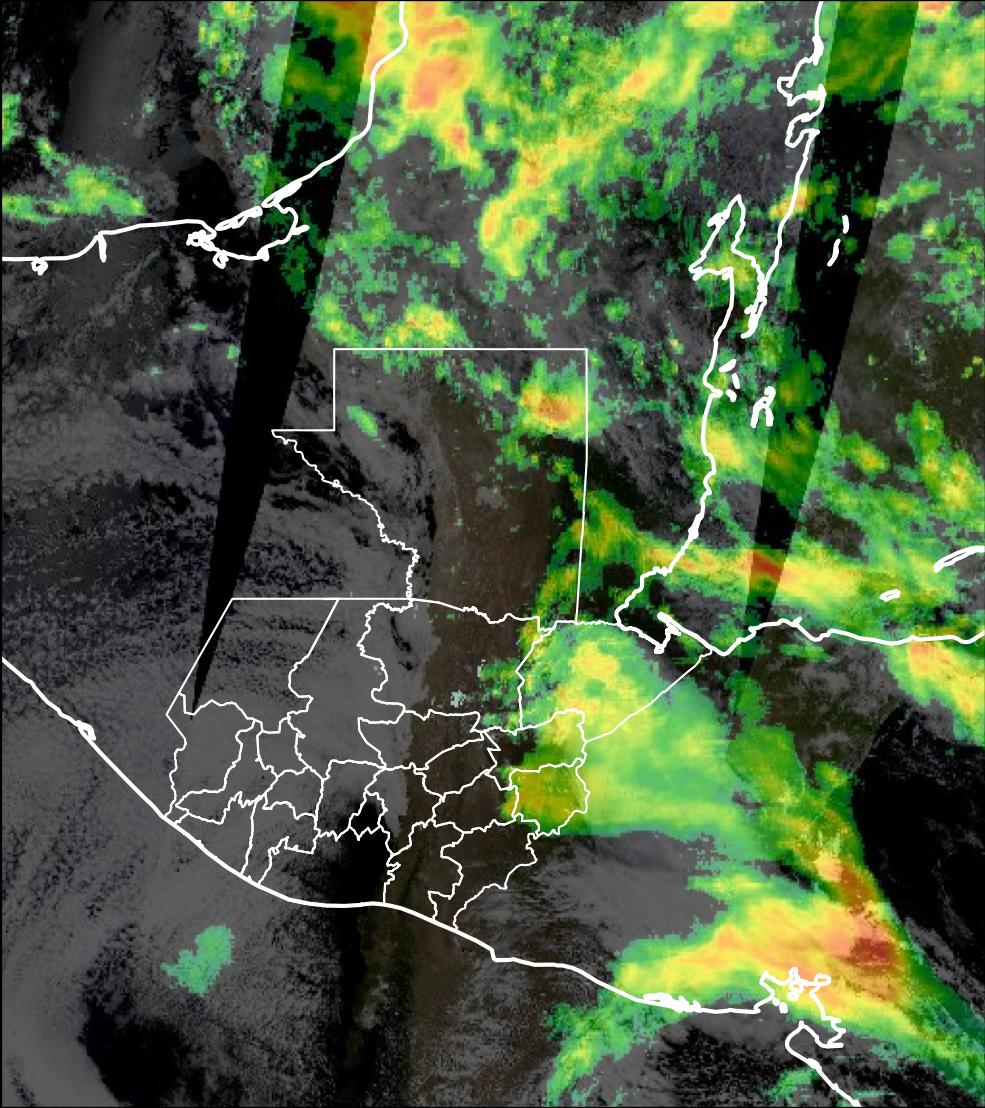precipitacion: (398, 52, 496, 170), (810, 909, 932, 994), (729, 541, 822, 601)
